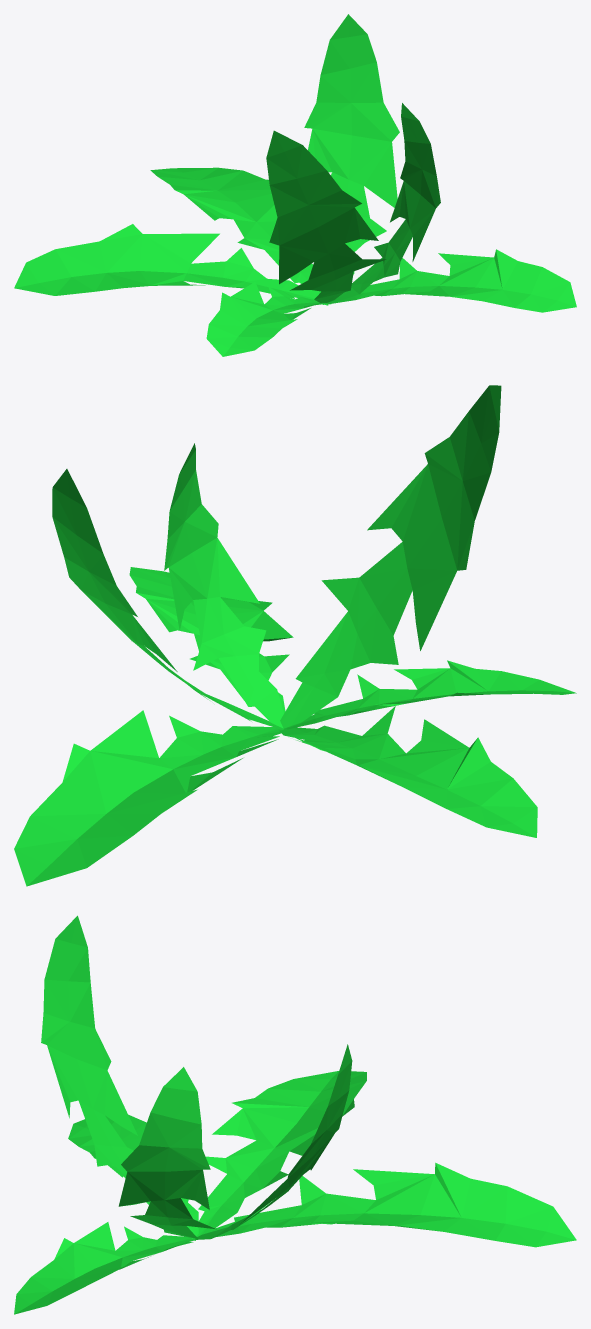
File: rowcrop_Small Plant.004.dae
3 renders of one model, top to bottom at view 1: azimuth 30°, elevation 25°; view 2: azimuth 150°, elevation 25°; view 3: azimuth 270°, elevation 25°, orthographic. The views are drawn at different scales.
Visible parts, largest first — view 1: Small Plant.004; view 2: Small Plant.004; view 3: Small Plant.004.
Part boxes in pixels (x1,y1,x2,y2): Small Plant.004: (14,14,576,356); Small Plant.004: (14,385,576,886); Small Plant.004: (14,915,576,1314).
Size of the model in its own units: 0.0928 by 0.0949 by 0.0495.
